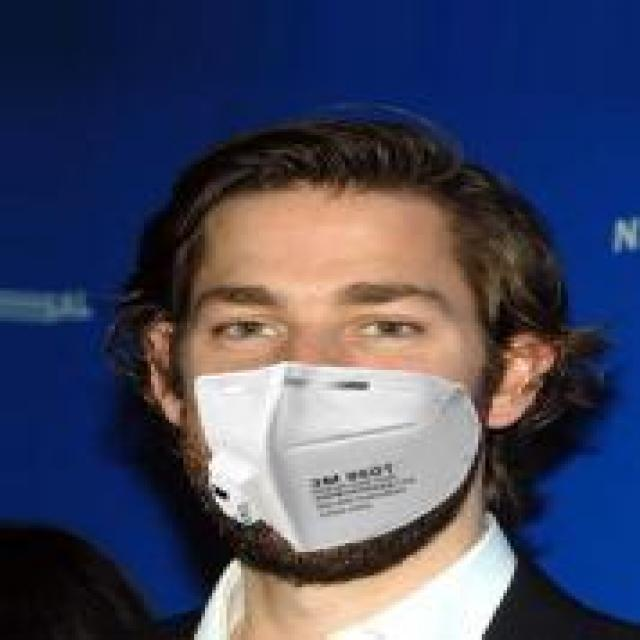mask: (82, 118, 590, 572)
